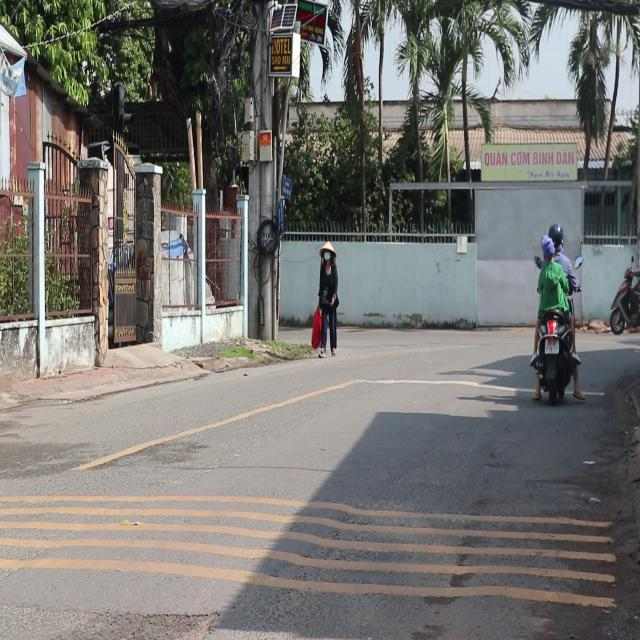helmet: (547, 220, 563, 248)
licenseplate: (528, 223, 581, 403)
motorcyclist: (540, 233, 555, 261)
nohelmet: (545, 338, 559, 352)
